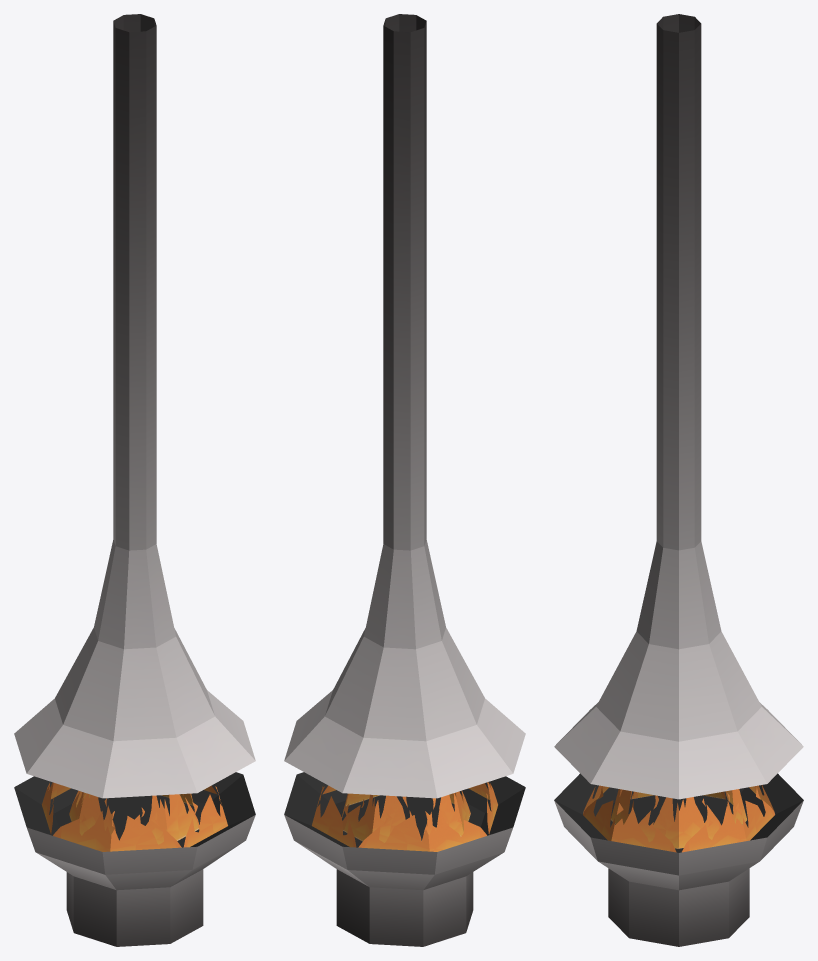
Rendered from Fireplace_002.fbx.
3 views of the same model, side by side, from view 1: azimuth 30°, elevation 25°; view 2: azimuth 150°, elevation 25°; view 3: azimuth 270°, elevation 25° (orthographic).
Visible parts, largest first — view 1: Fireplace_002; view 2: Fireplace_002; view 3: Fireplace_002.
Part boxes in pixels (left/top/right/bottom): Fireplace_002: left=14, top=14, right=255, bottom=946; Fireplace_002: left=284, top=14, right=525, bottom=946; Fireplace_002: left=554, top=14, right=803, bottom=946.
Size of the model in its own units: 203 by 800 by 203.
